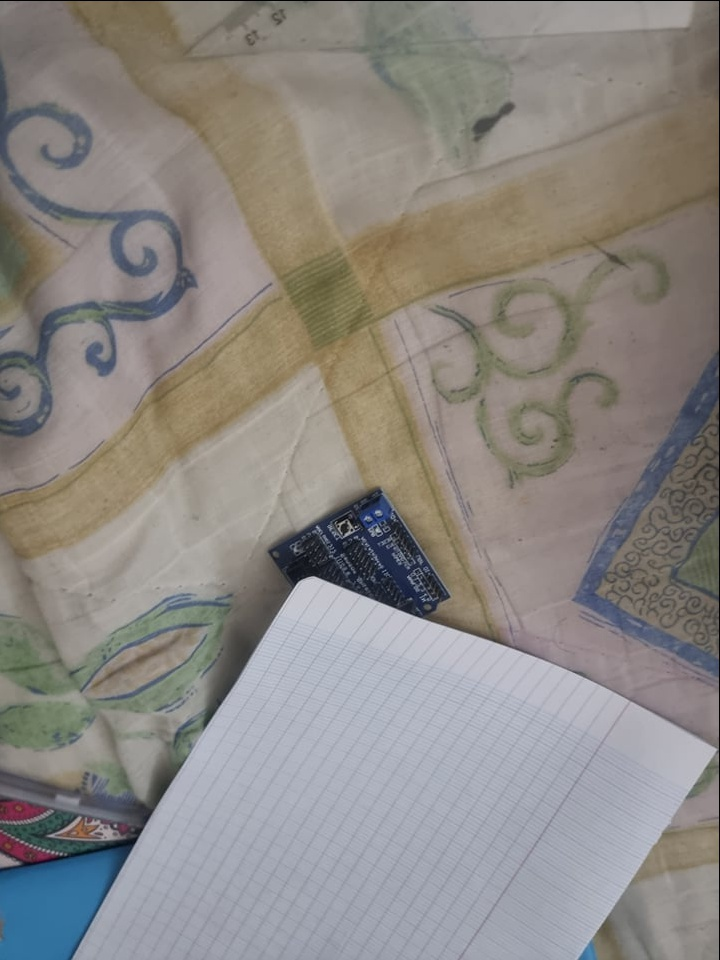5V EXPANSION: (268, 484, 454, 618)
